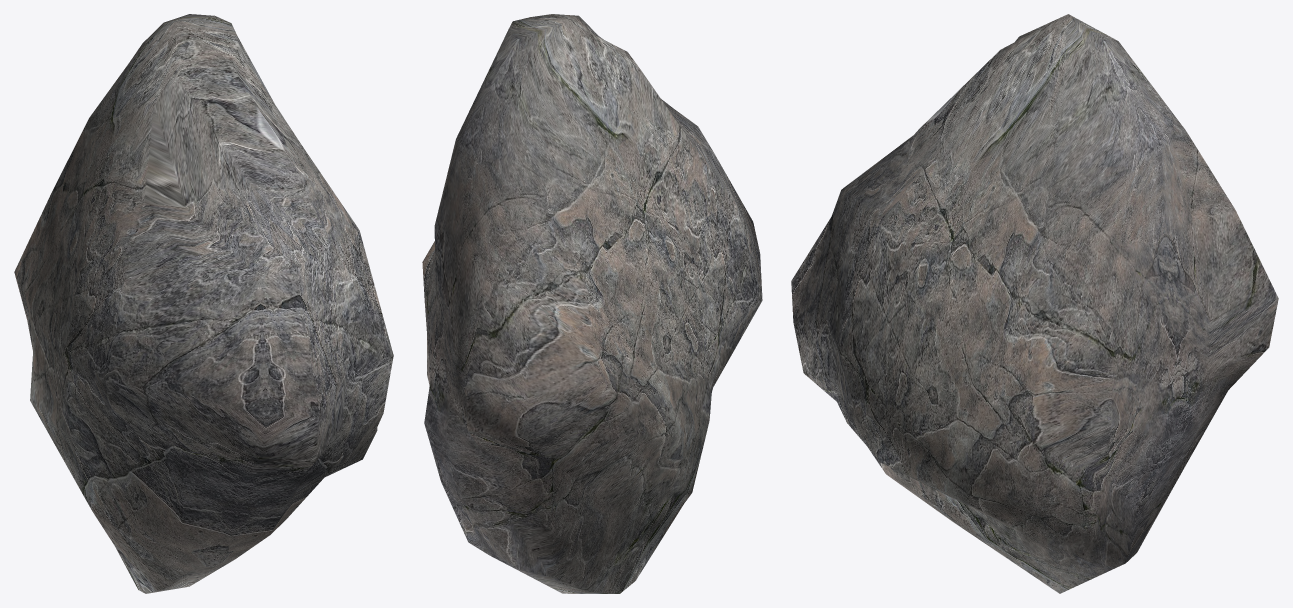
File: rock011.FBX
3 views of the same model, side by side, from view 1: azimuth 30°, elevation 25°; view 2: azimuth 150°, elevation 25°; view 3: azimuth 270°, elevation 25° (orthographic). The views are drawn at different scales.
Visible parts, largest first — view 1: rock011; view 2: rock011; view 3: rock011.
Boxes of the visible parts, bbox=[...] form: rock011: bbox=[14, 14, 393, 593]; rock011: bbox=[422, 14, 762, 593]; rock011: bbox=[791, 14, 1278, 593].
Size of the model in its own units: 1445 by 2700 by 2073.
1 material, 1 textured.
